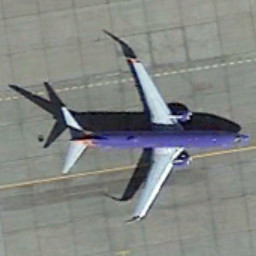Airplane: (48, 47, 252, 225)
